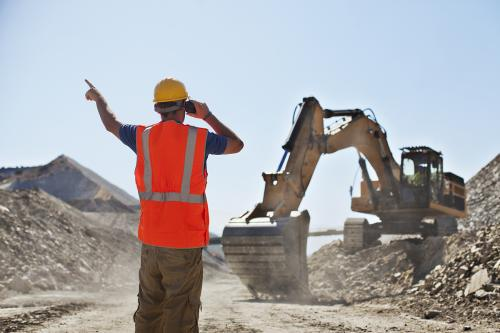helmet: (147, 70, 193, 127)
